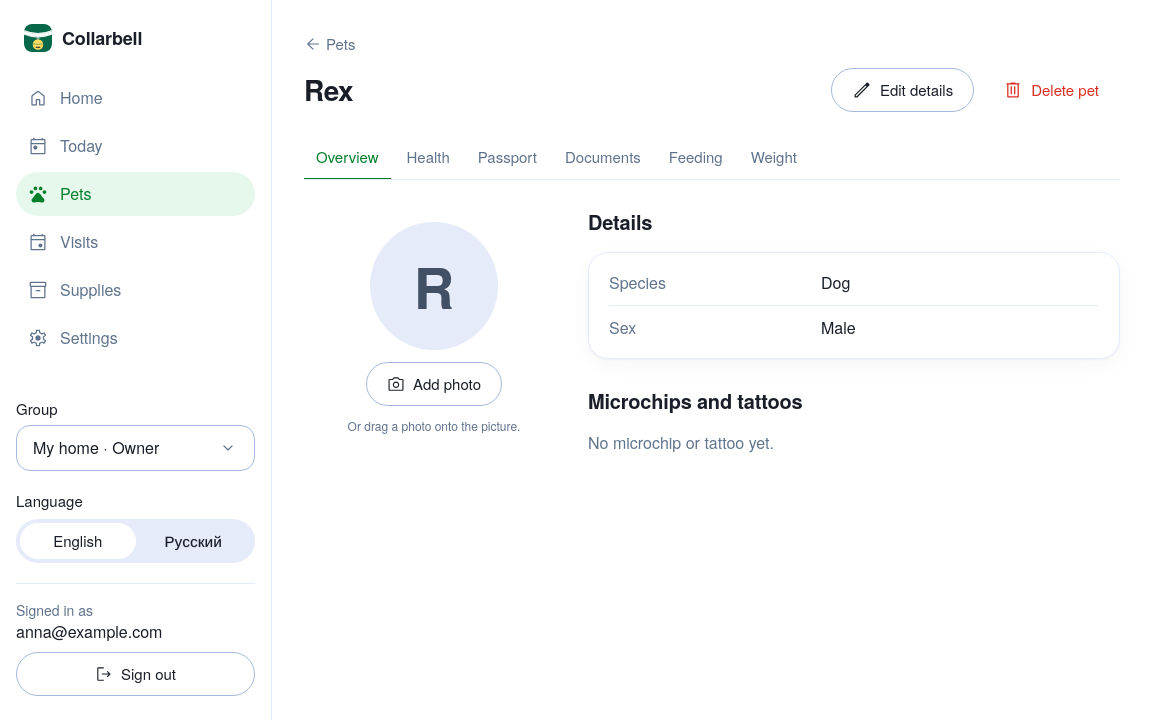
Test case: a pet's page › deletes a pet after asking
The image size is (1152, 720).
Click the button "Delete pet".
click(1051, 90)  # box [982,68,1120,112]
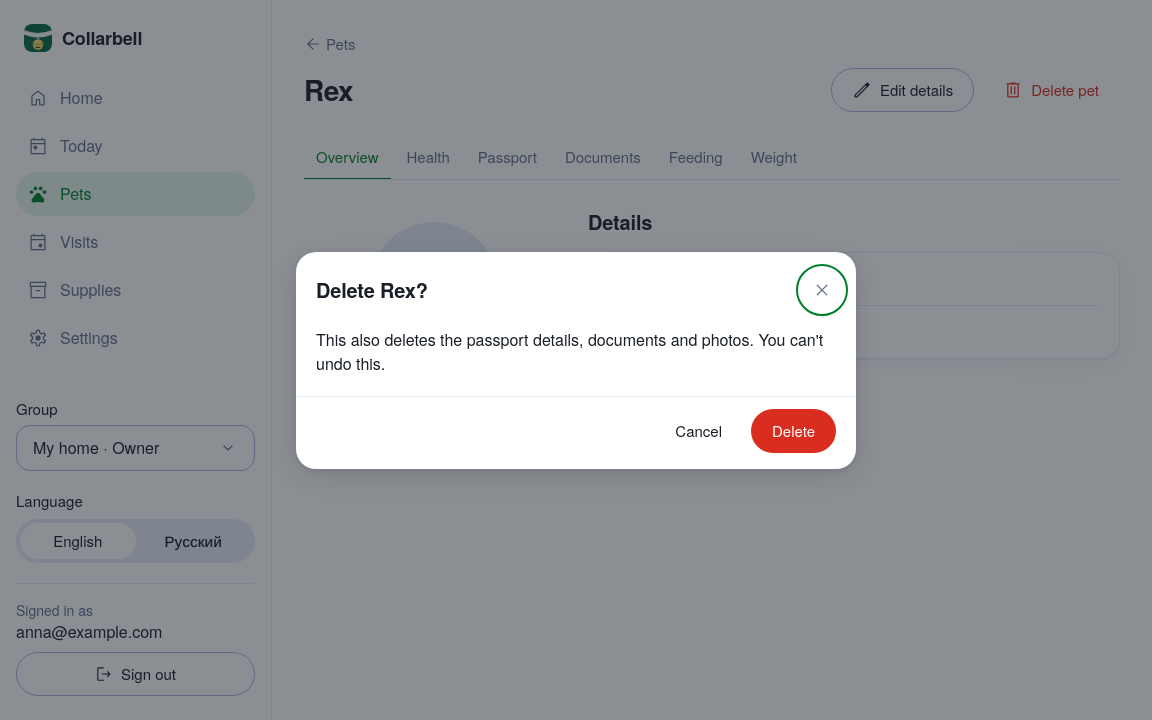
Check: the text "also deletes the passport details" is shown, box [316,328,823,374]
Click the button "Delete".
click(794, 430)  # box [751,408,836,452]
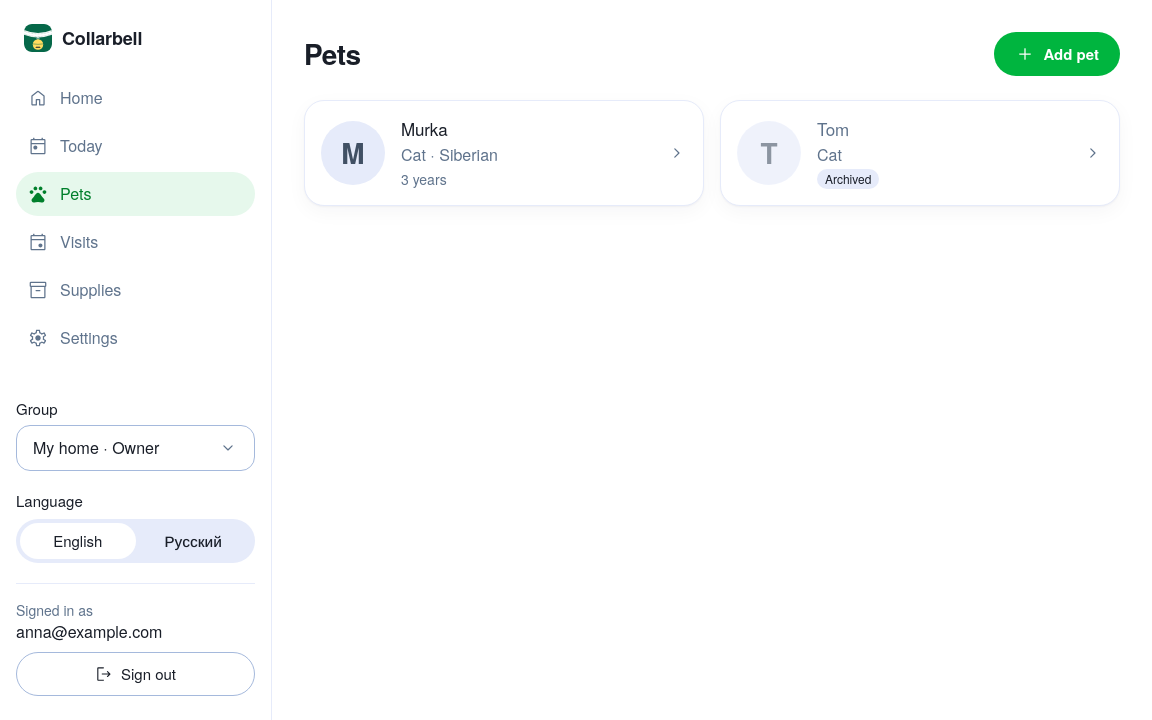
Check: the heading "Rex" is gone
